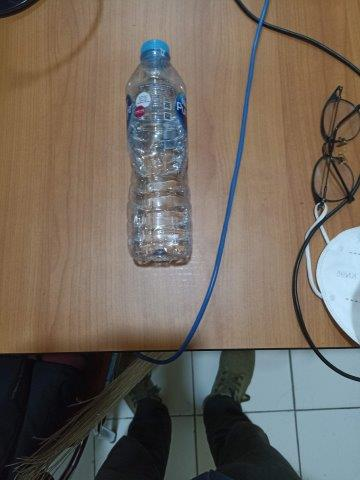botolplastik: (127, 41, 191, 264)
